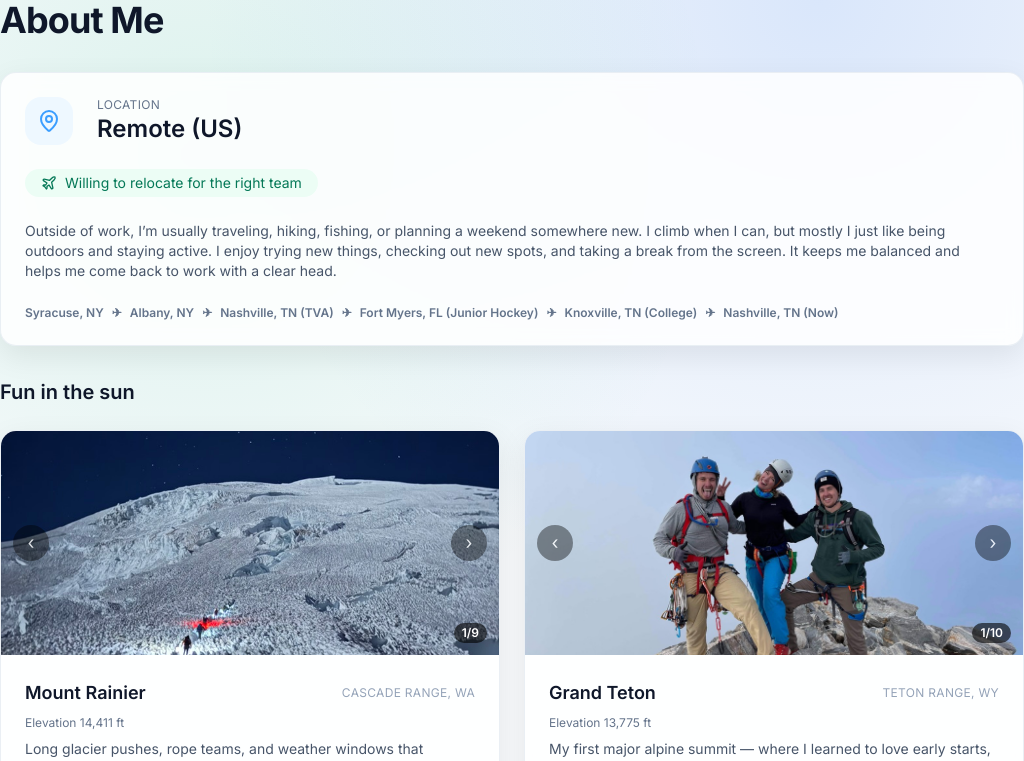
AboutMe page › shifts photos via modal nav buttons
This screenshot has width=1024, height=761.
What coordinates should you click on to do the following:
click the button named "Expand Mount Rainier photo 1"
I would click on:
 (250, 543)
Its box is [1,431,499,655].
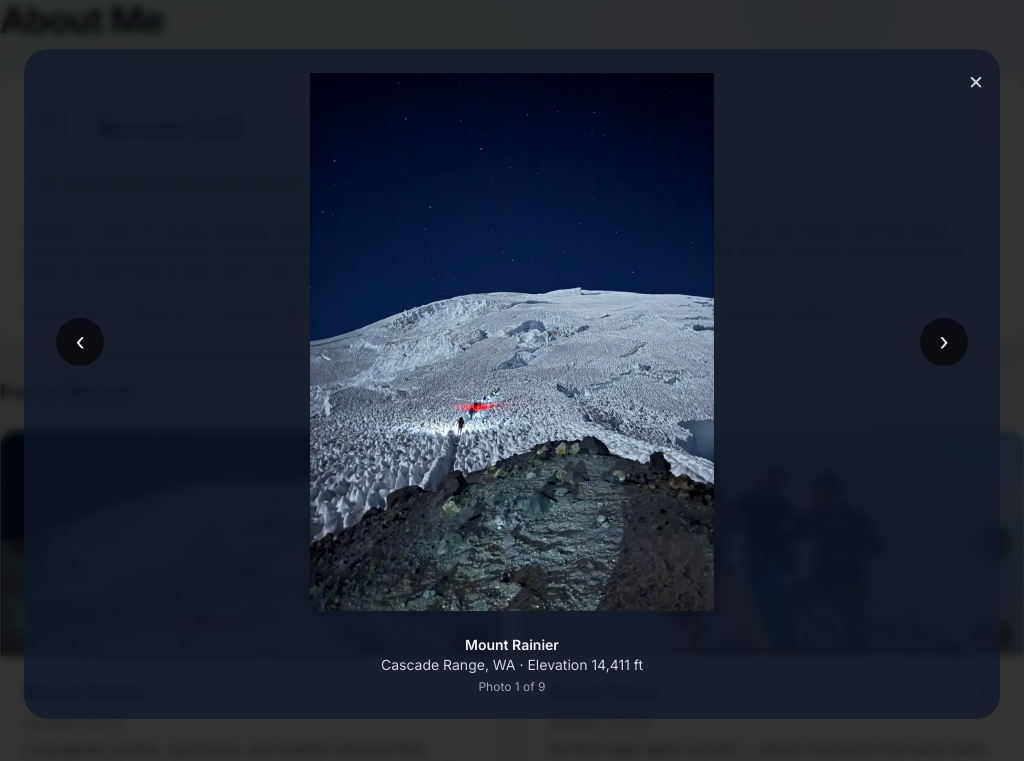
What coordinates should you click on to do the following:
click the button named "Next photo"
I would click on:
 (944, 342)
Its box is [920,318,968,366].
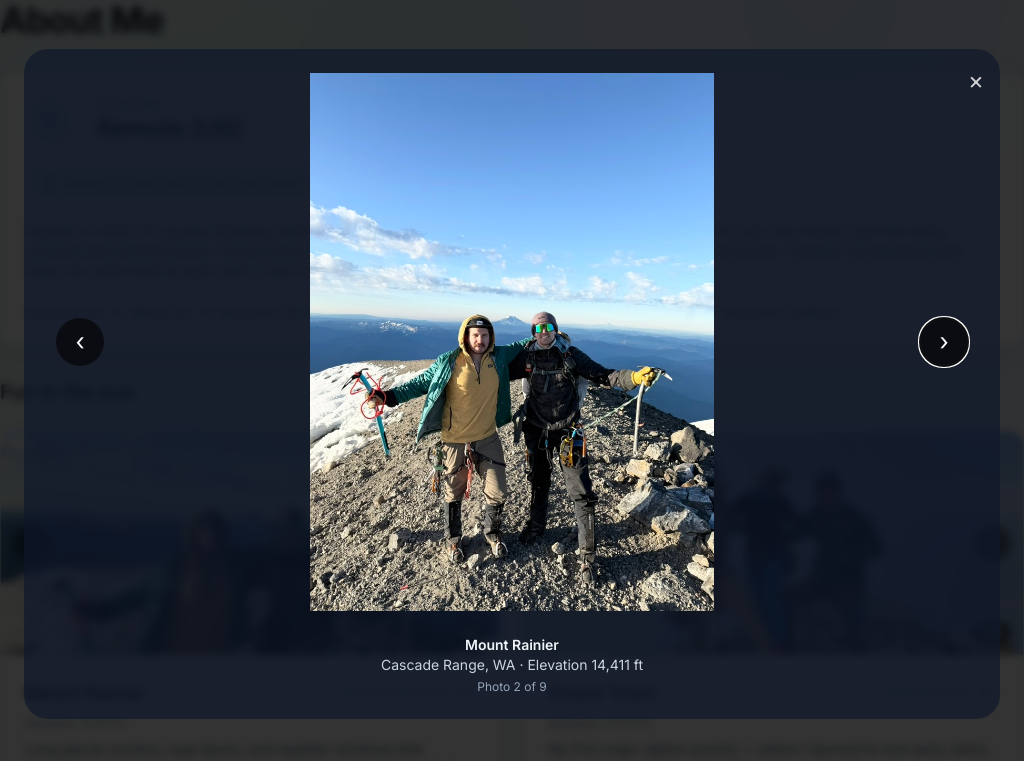
expect the picture with alt text "Mount Rainier expanded view 2" is shown: met
What coordinates should you click on to do the following:
click the button named "Previous photo"
I would click on:
 (80, 342)
Its box is [56,318,104,366].
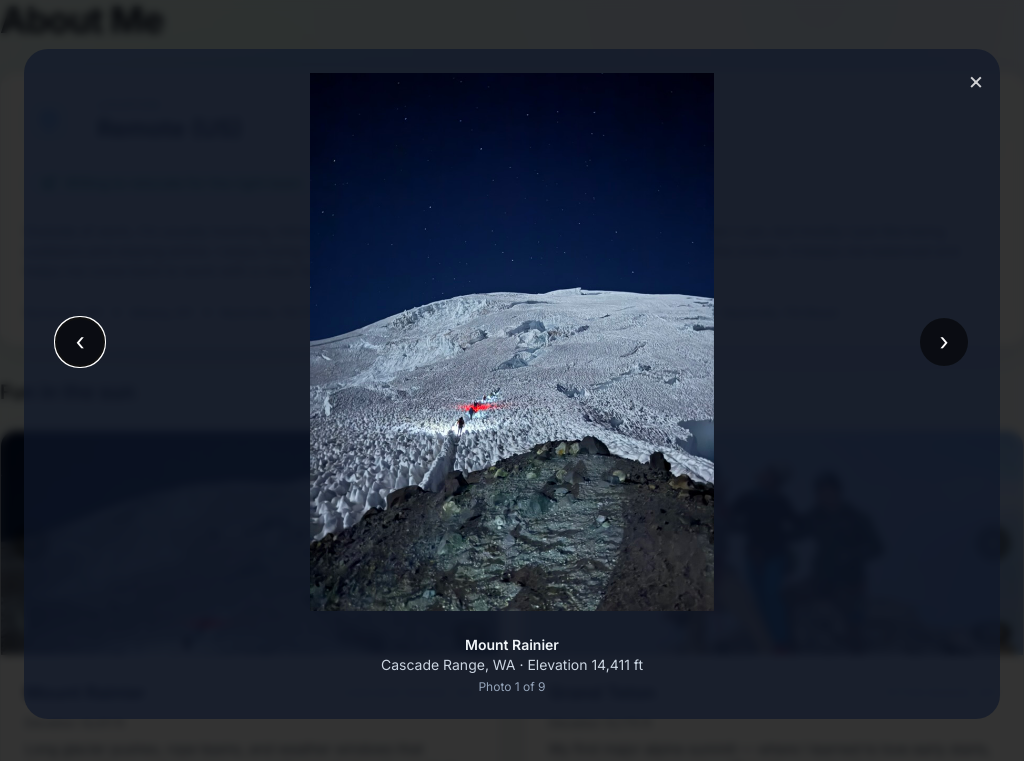
expect the picture with alt text "Mount Rainier expanded view 1" is shown: met
